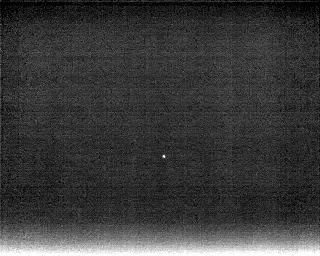BIRD: (159, 152, 168, 162)
